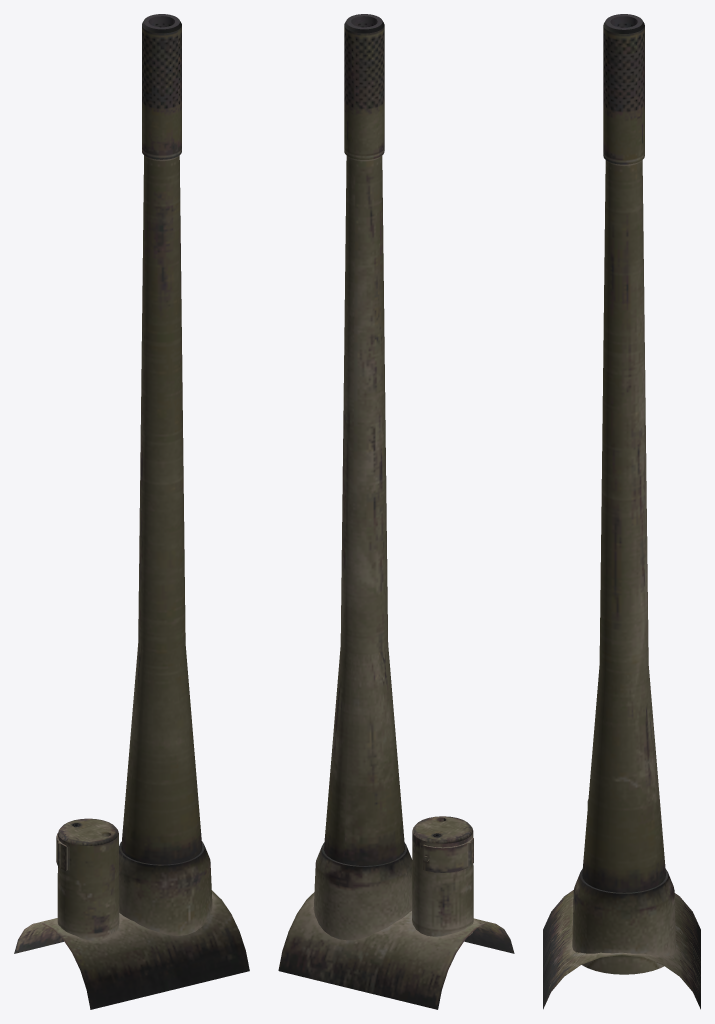
File: Gun_05.glb
3 renders of one model, left to right at view 1: azimuth 30°, elevation 25°; view 2: azimuth 150°, elevation 25°; view 3: azimuth 270°, elevation 25°, orthographic. The views are drawn at different scales.
Visible parts, largest first — view 1: set_0_group_0; view 2: set_0_group_0; view 3: set_0_group_0.
Boxes of the visible parts, x1,y1,x2,y2 form: set_0_group_0: (14,14,249,1009); set_0_group_0: (278,14,514,1009); set_0_group_0: (543,14,700,1009).
Size of the model in its own units: 0.6354 by 3.55 by 0.5278.
Materials: 1 (1 with a texture image).
